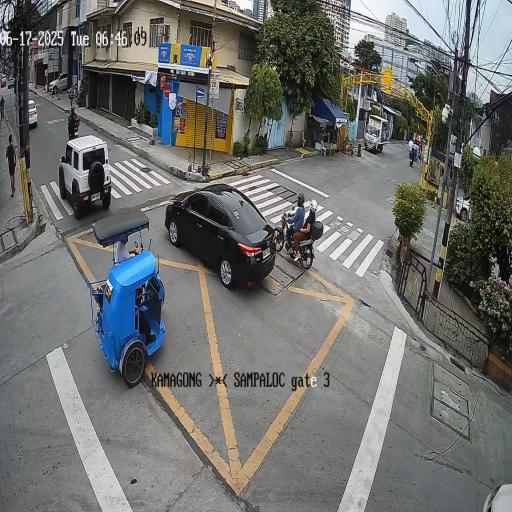Car: (155, 171, 281, 298), (42, 118, 132, 225), (361, 104, 390, 164)
Motor: (271, 189, 328, 278), (60, 98, 86, 132)
